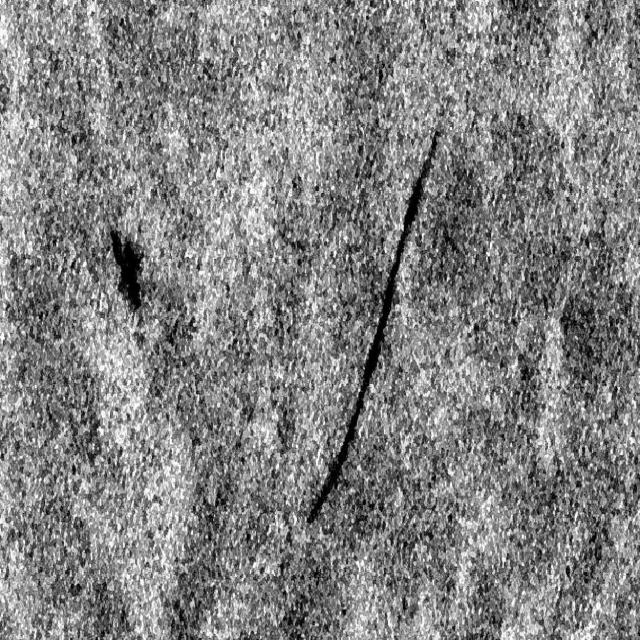oil-spill: (306, 131, 440, 522), (108, 226, 148, 324)
